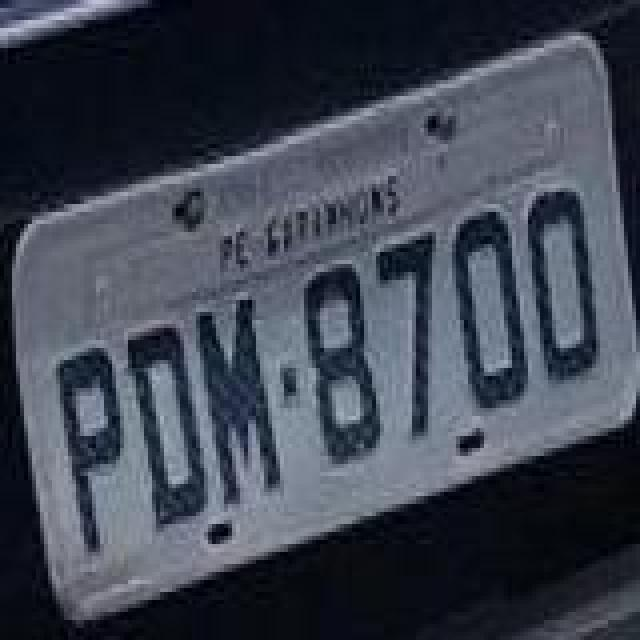7: (376, 230, 440, 442)
8: (304, 262, 384, 466)
D: (126, 322, 210, 534)
M: (194, 292, 286, 508)
O: (448, 210, 528, 414), (526, 190, 602, 386)
P: (52, 346, 124, 558)
